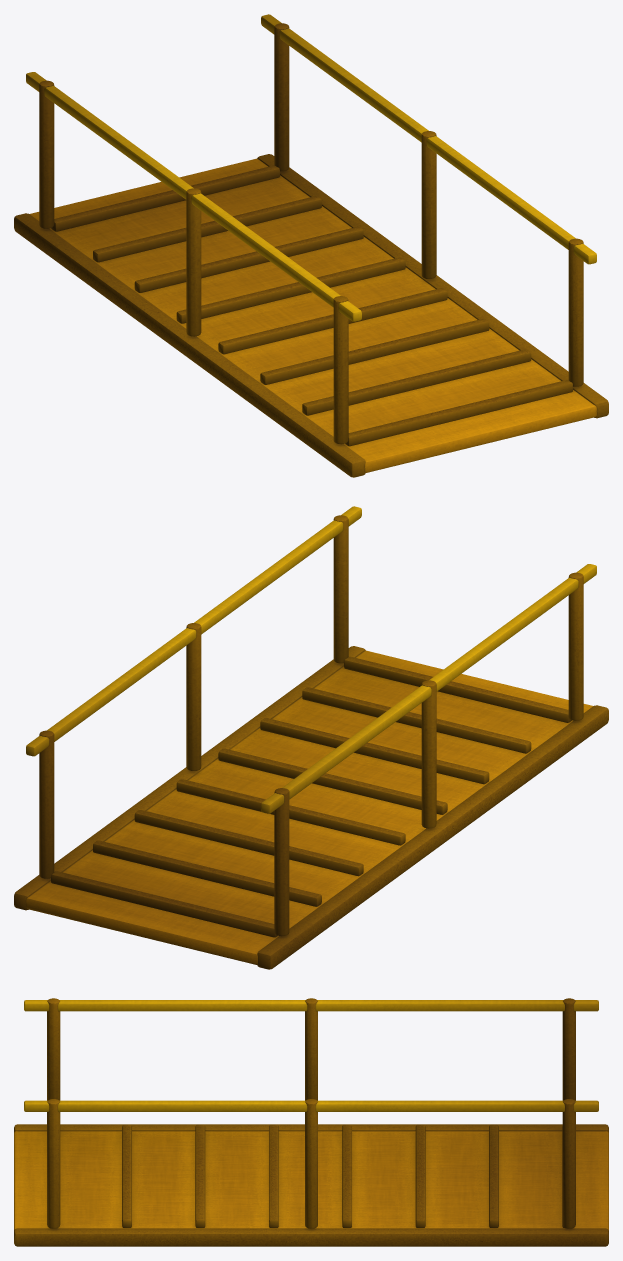
File: Gangway.fbx
The picture shows the model from 3 angles, top to bottom: view 1: azimuth 30°, elevation 25°; view 2: azimuth 150°, elevation 25°; view 3: azimuth 270°, elevation 25°; orthographic projection. The views are drawn at different scales.
Visible parts, largest first — view 1: Gangway; view 2: Gangway; view 3: Gangway.
Part boxes in pixels (x1,y1,x2,y2): Gangway: [14, 14, 608, 477]; Gangway: [14, 506, 608, 969]; Gangway: [14, 998, 608, 1246].
Bounding box in the file's own units: 1.32 × 0.79 × 3.
